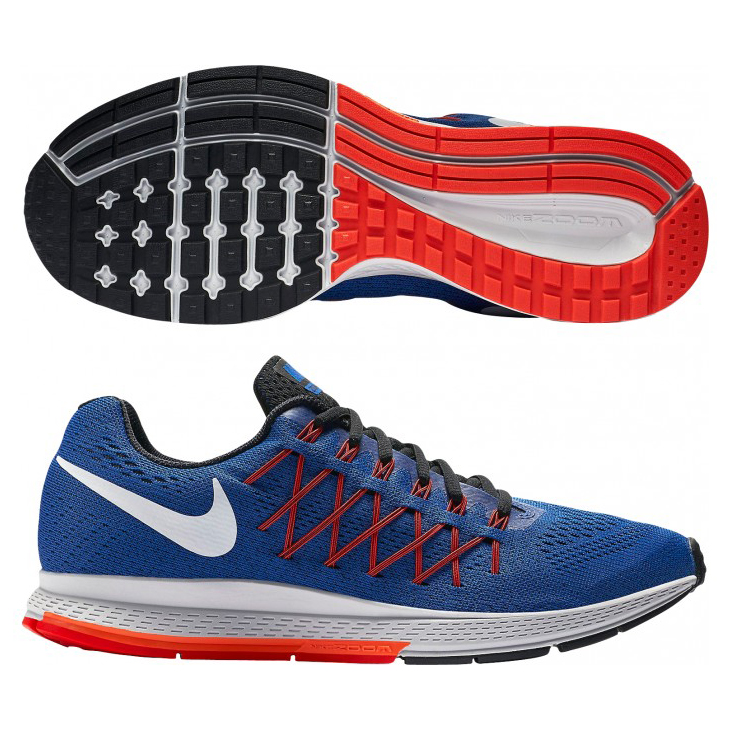Nike: (49, 449, 243, 565)
